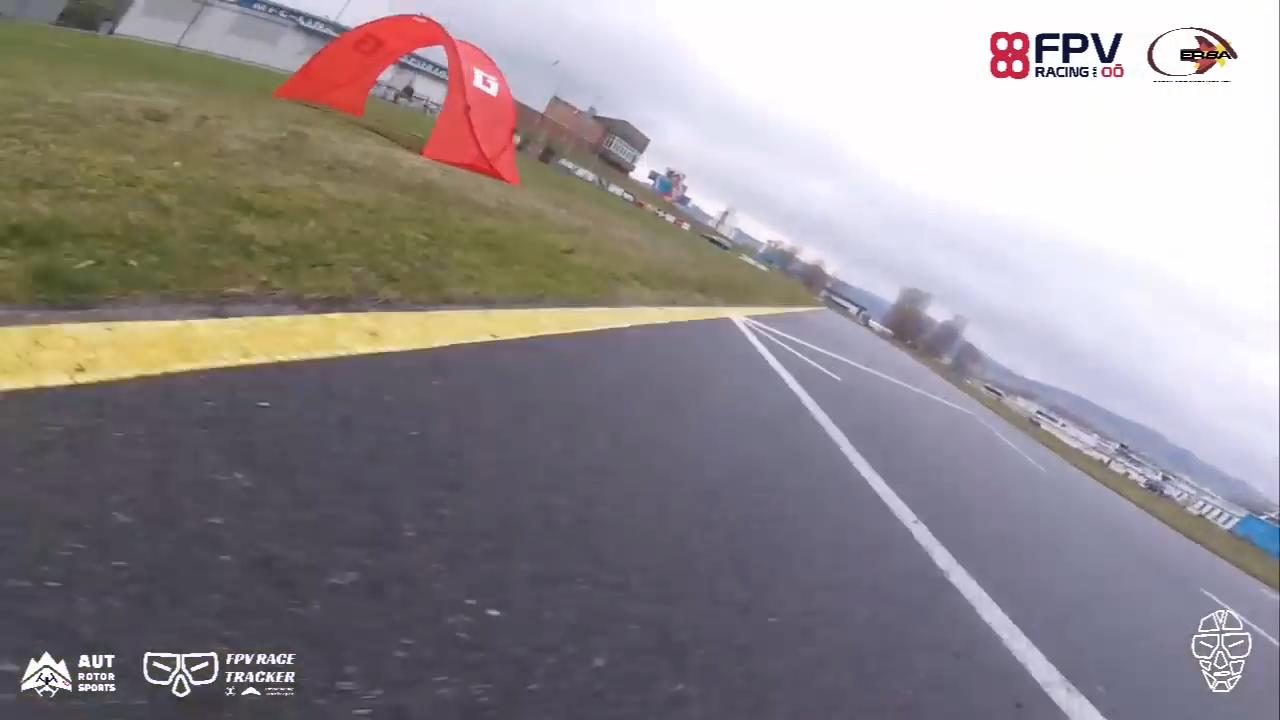gate: (264, 15, 524, 188)
